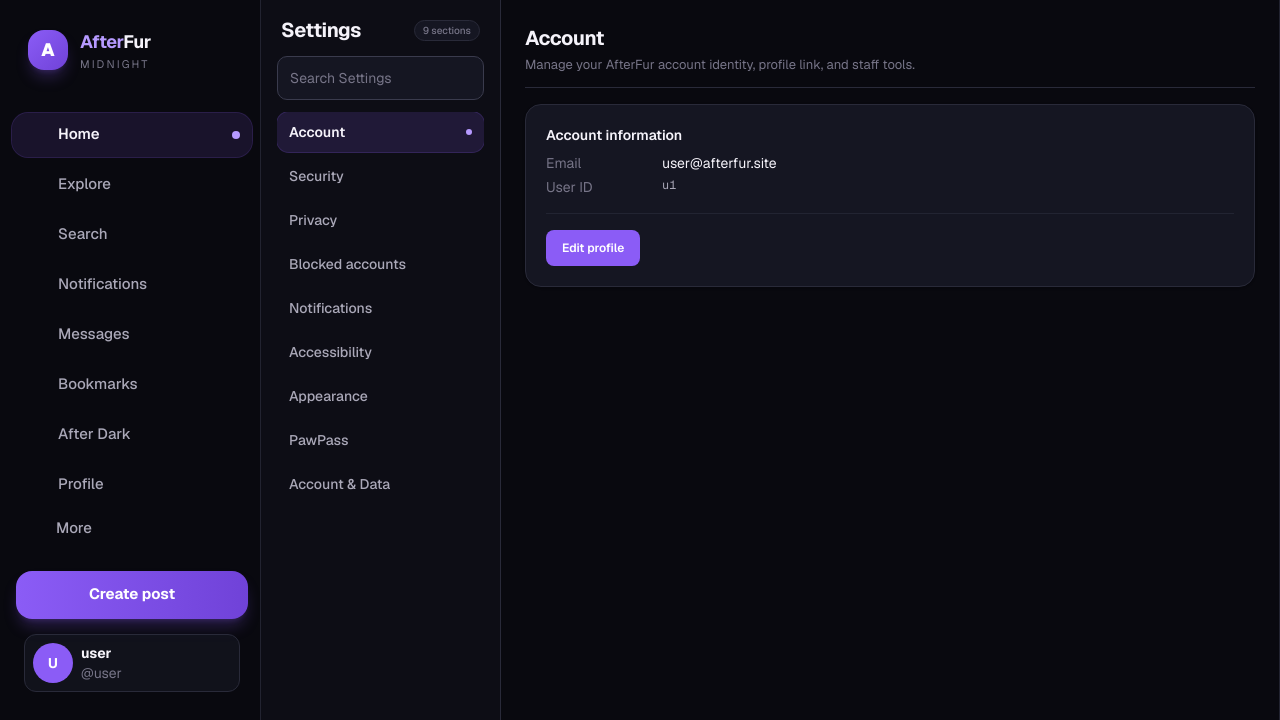
Test case: three-column settings category switching & navigation › renders all 9 category buttons in Column 2 and displays ONLY the selected category in Column 3
The image size is (1280, 720).
Expected: the element with class "af-settings-sidebar" is shown, [261,0,501,719]
Expected: the element with class "af-settings-content" is shown, [501,0,1279,664]
Note: Switch to Security
Step 1. Click the button "Security" → (380, 176), box [277,156,484,196]
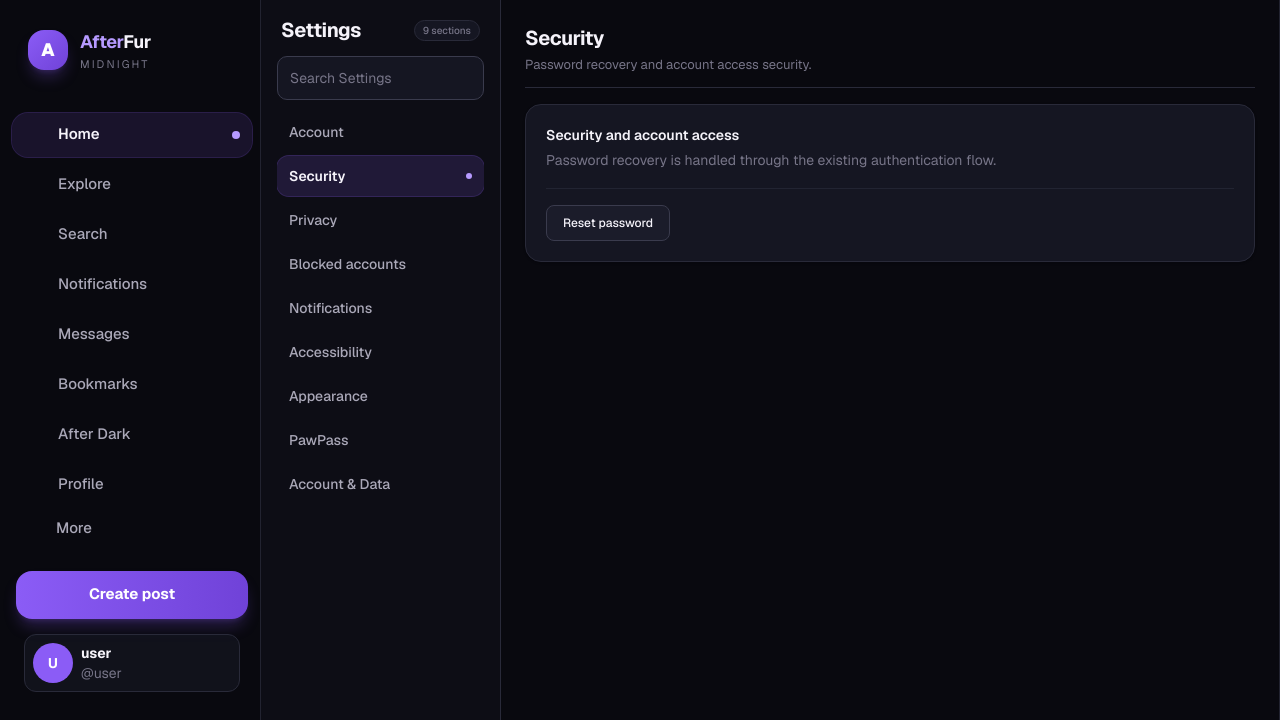
Now the heading "Security and account access" is shown, box [546,126,739,144]
Now the link "Edit profile" is gone
Note: Switch to Privacy
Step 2. Click the button "Privacy" → (380, 220), box [277,200,484,240]
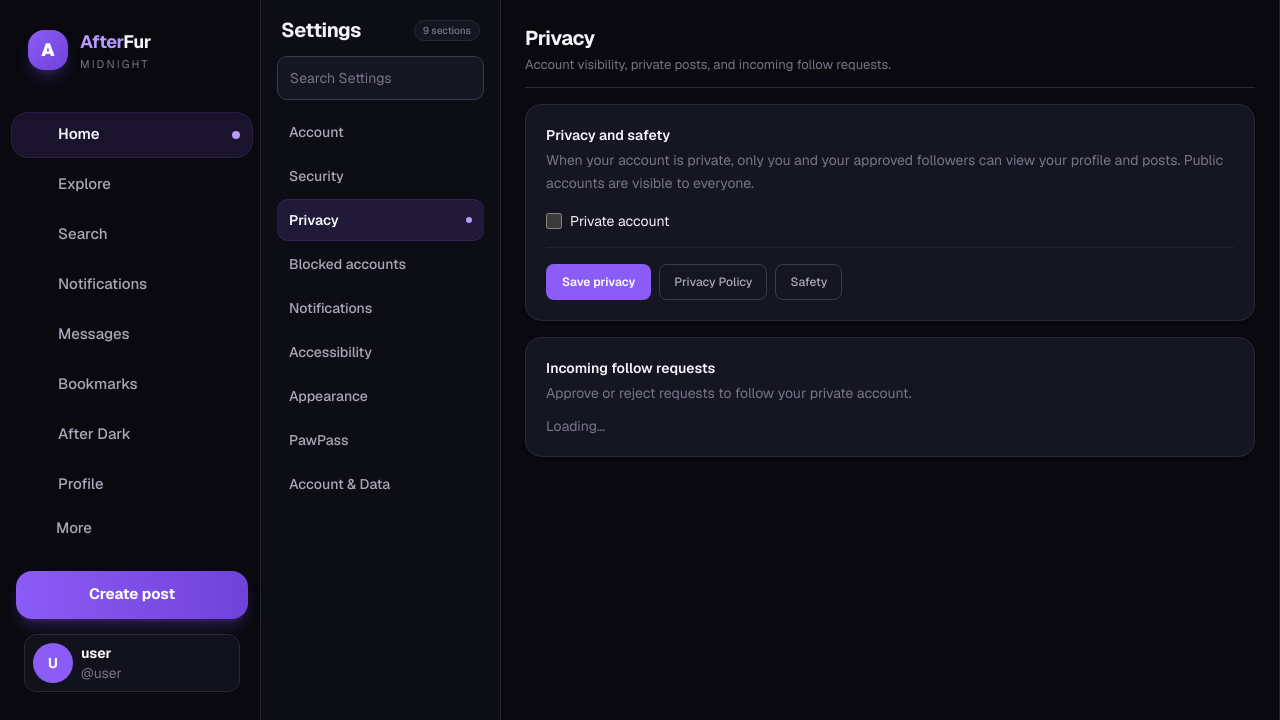
Now the heading "Privacy and safety" is shown, box [546,126,670,144]
Now the heading "Incoming follow requests" is shown, box [546,359,715,377]
Note: Switch to Blocked accounts
Step 3. Click the button "Blocked accounts" → (380, 264), box [277,244,484,284]
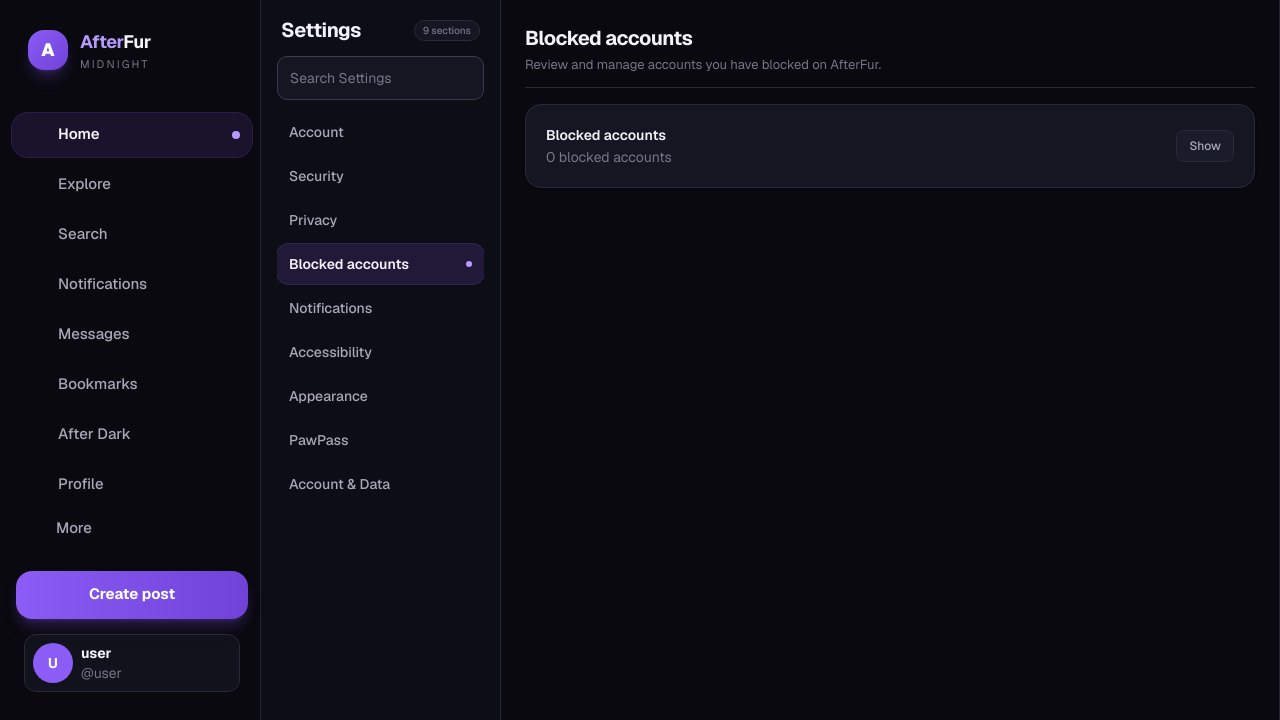
Now the 1st heading "Blocked accounts" is shown, box [525,25,692,51]
Now the button "Show" is shown, box [1176,130,1234,162]
Note: Switch to PawPass (dedicated section, not mixed into Account or Appearance)
Step 4. Click the button "PawPass" → (380, 440), box [277,420,484,460]
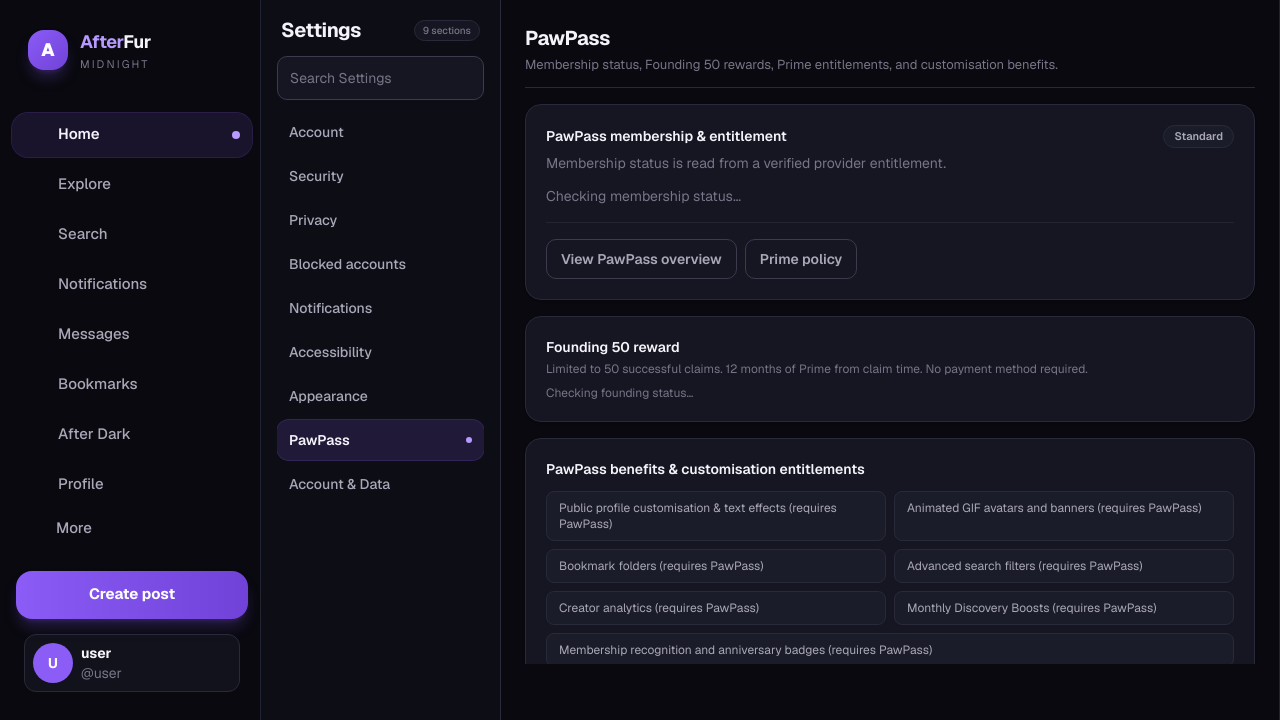
Now the heading "PawPass" is shown, box [525,25,610,51]
Now the heading "PawPass membership & entitlement" is shown, box [546,126,787,146]
Now the heading "Founding 50 reward" is shown, box [546,338,680,356]
Note: Switch to Appearance (contains ProfileCustomisationStudio)
Step 5. Click the button "Appearance" → (380, 396), box [277,376,484,416]
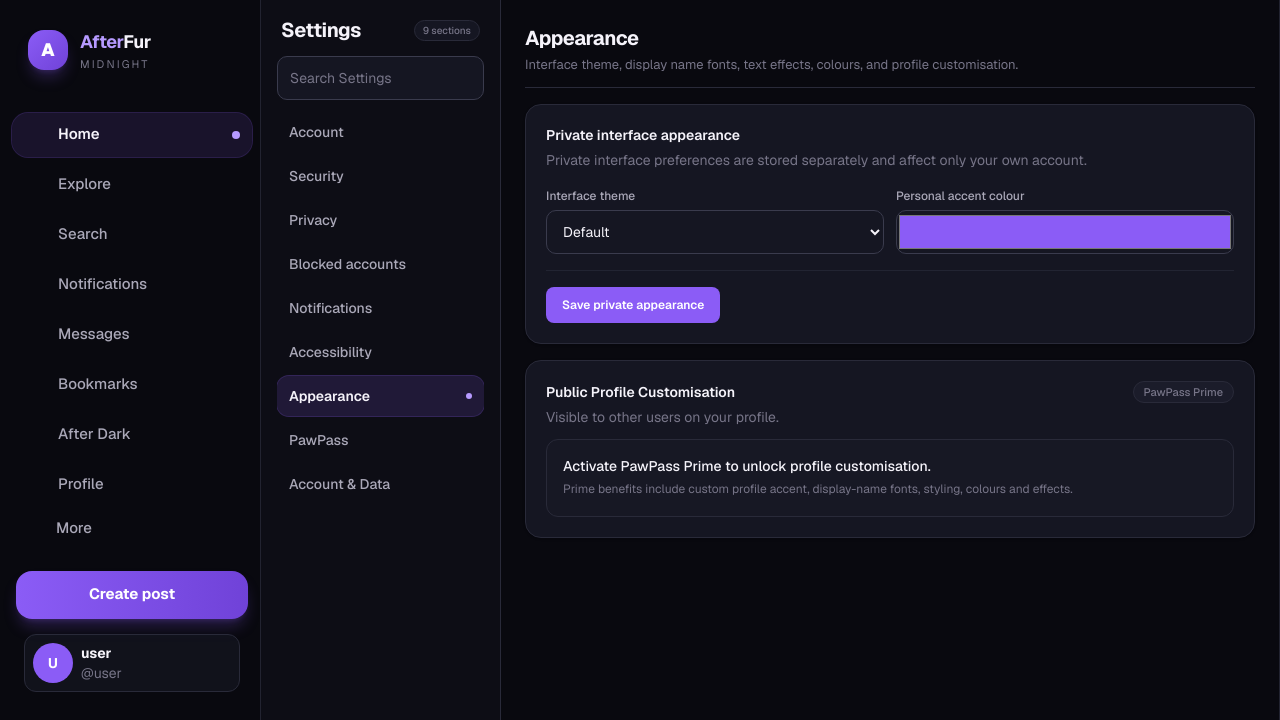
Now the heading "Public Profile Customisation" is shown, box [546,382,735,402]
Now the heading "Appearance" is shown, box [525,25,639,51]
Now the heading "Private interface appearance" is shown, box [546,126,740,144]
Note: Switch to Account & Data
Step 6. Click the button "Account & Data" → (380, 484), box [277,464,484,504]
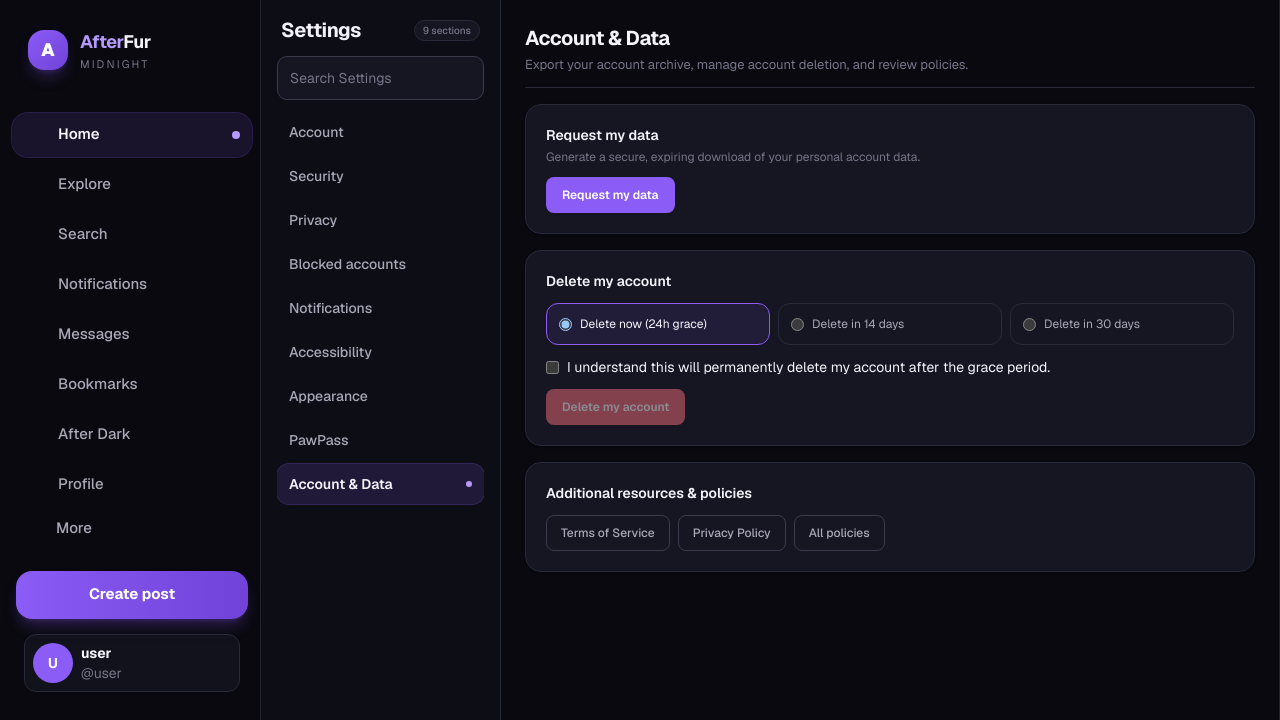
Now the heading "Account & Data" is shown, box [525,25,670,51]
Now the heading "Request my data" is shown, box [546,126,659,144]
Now the link "Terms of Service" is shown, box [546,515,670,551]
